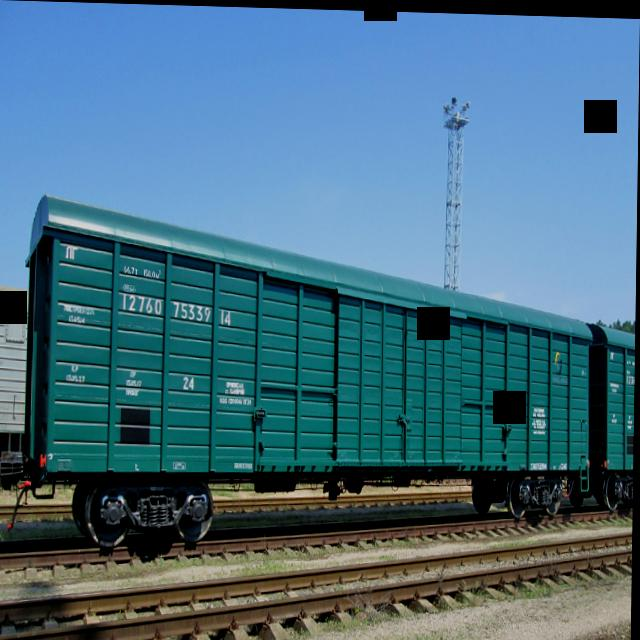boxcar: (19, 195, 594, 564), (597, 316, 636, 505)
